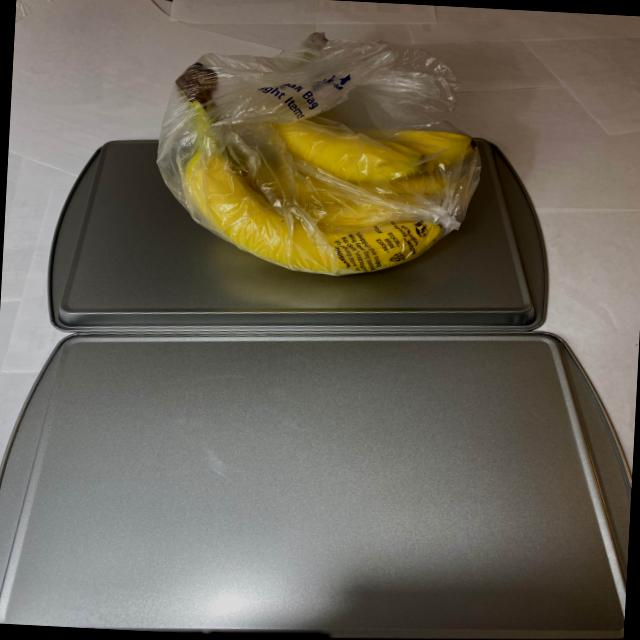banana: (158, 41, 496, 284)
